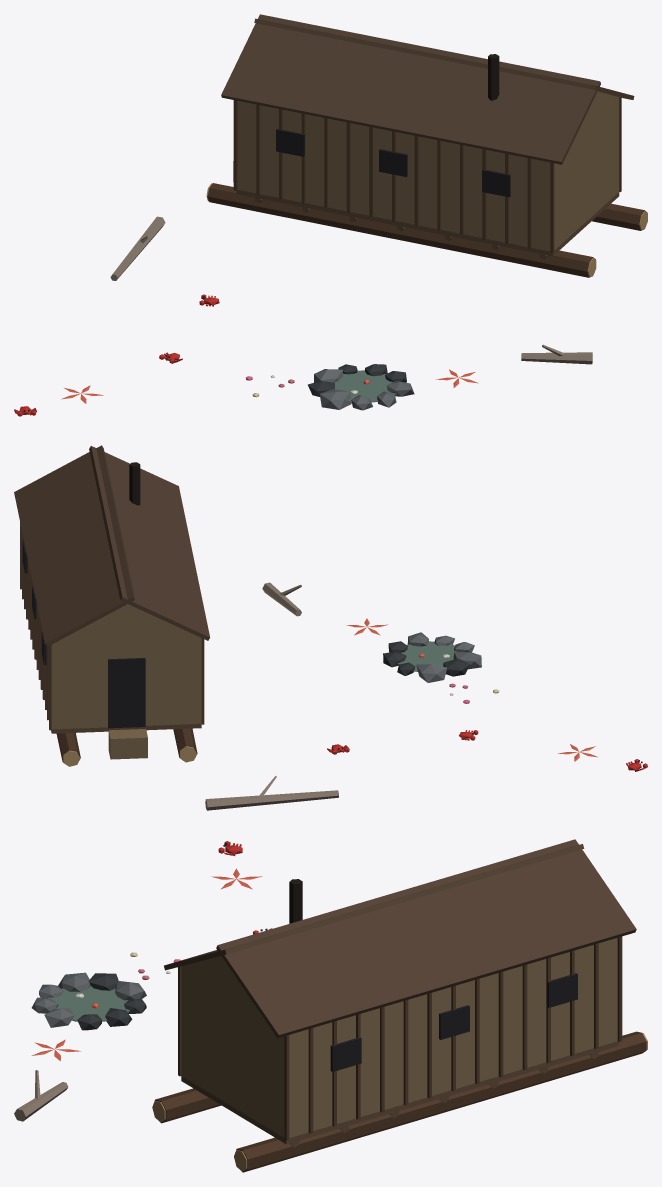
Rendered from chunk_-3_2.glb.
The picture shows the model from 3 angles, top to bottom: view 1: azimuth 30°, elevation 25°; view 2: azimuth 150°, elevation 25°; view 3: azimuth 270°, elevation 25°; orthographic projection. The views are drawn at different scales.
Parts seen in each view (by area): view 1: chunk_-3_2; view 2: chunk_-3_2; view 3: chunk_-3_2.
Boxes of the visible parts, x1,y1,x2,y2 form: chunk_-3_2: (14,14,647,416); chunk_-3_2: (14,445,647,810); chunk_-3_2: (14,839,647,1172).
Bounding box in the file's own units: 16.9 × 5.58 × 12.48.
